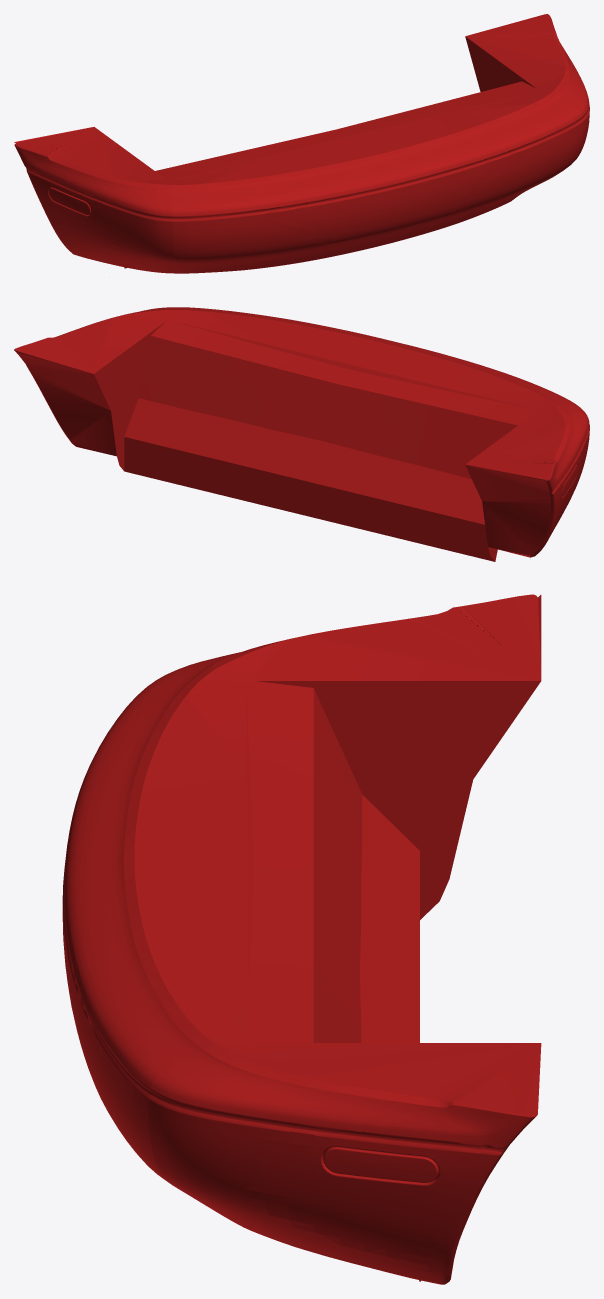
Rendered from stock.glb.
The picture shows the model from 3 angles, top to bottom: view 1: azimuth 30°, elevation 25°; view 2: azimuth 150°, elevation 25°; view 3: azimuth 270°, elevation 25°; orthographic projection. The views are drawn at different scales.
Visible parts, largest first — view 1: Miata_Stock_bumper-rear.001, Miata_Stock_bumper-rear.002; view 2: Miata_Stock_bumper-rear.002, Miata_Stock_bumper-rear.001; view 3: Miata_Stock_bumper-rear.002, Miata_Stock_bumper-rear.001.
Part boxes in pixels (<box>): Miata_Stock_bumper-rear.001: <box>15,15,589,270</box>; Miata_Stock_bumper-rear.002: <box>14,14,570,273</box>; Miata_Stock_bumper-rear.002: <box>14,309,584,561</box>; Miata_Stock_bumper-rear.001: <box>14,307,589,561</box>; Miata_Stock_bumper-rear.002: <box>70,594,541,1284</box>; Miata_Stock_bumper-rear.001: <box>62,652,540,1284</box>.
Size of the model in its own units: 64.88 by 14.49 by 25.18.
